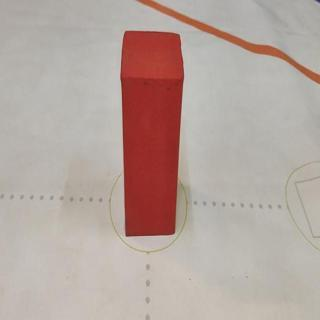redbox: (121, 30, 183, 235)
